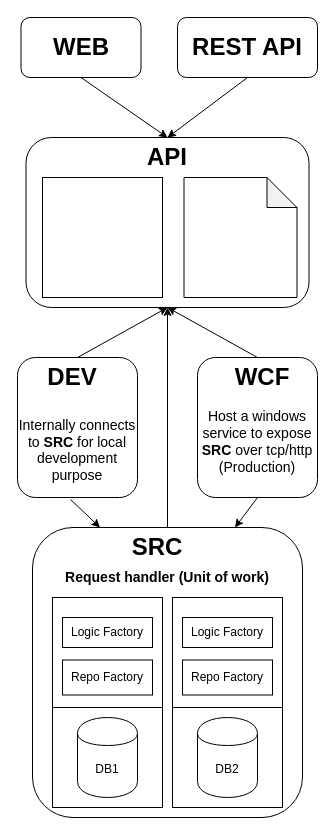
Some shapes in this 335 by 835 pixel diagram are drawn without their labels. Each missing label, with the centre of its shape:
"Contract" goes at [240,237].
"ServiceFactory - DEV endpoint - WCF endpoint" goes at [102,237].
